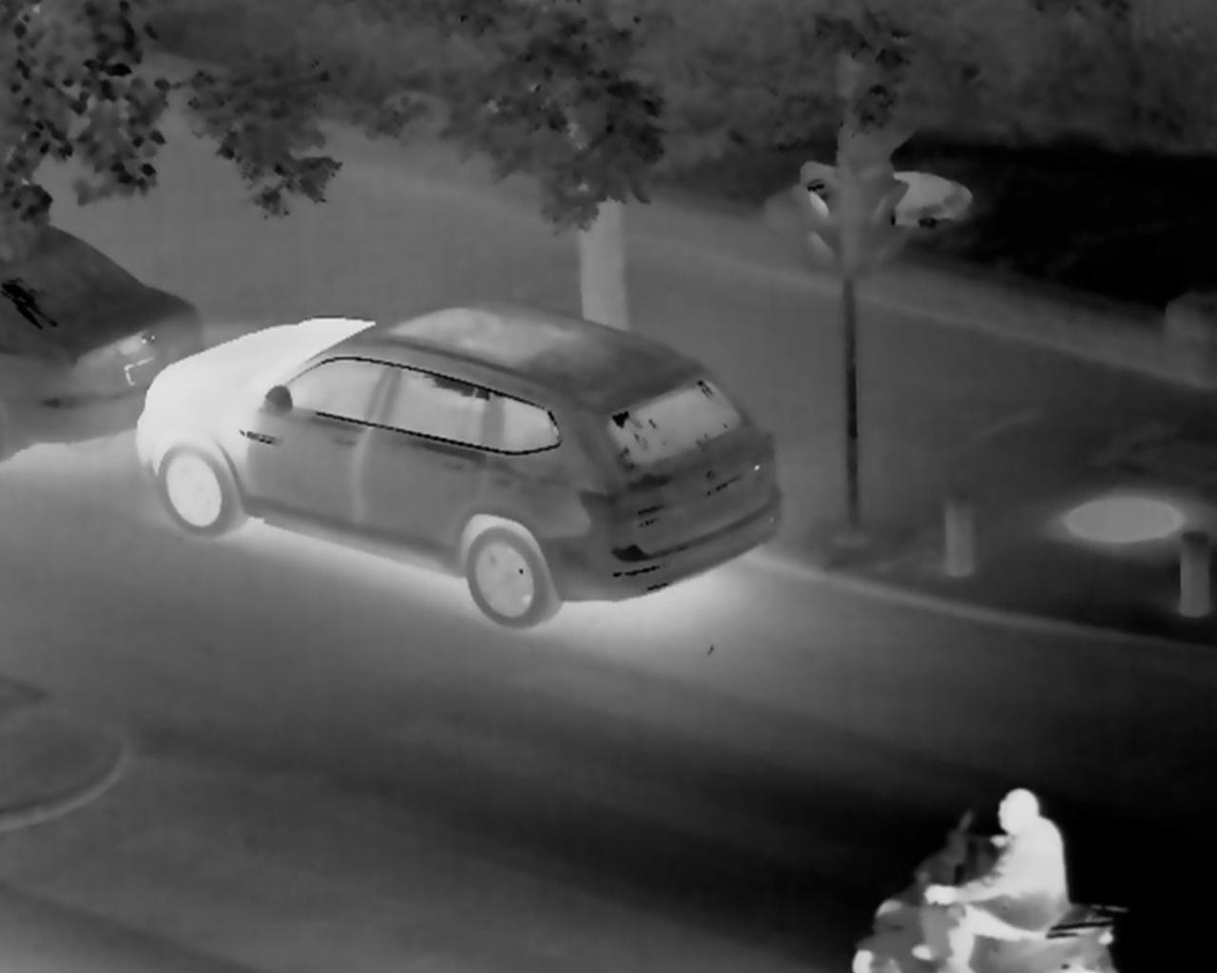person: (891, 759, 1094, 973)
